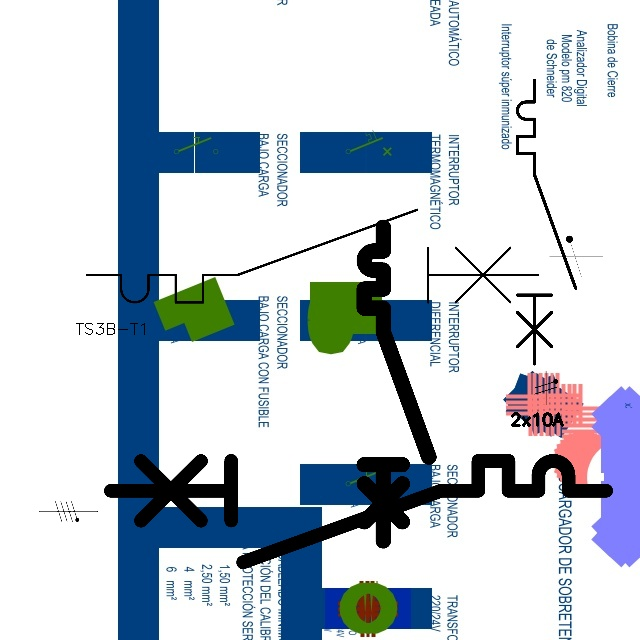interruptor_termomagnetico: (97, 448, 618, 575), (75, 198, 549, 314), (356, 219, 436, 549), (510, 73, 583, 371)
